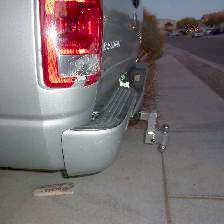tail_lamp: (54, 51, 104, 90)
